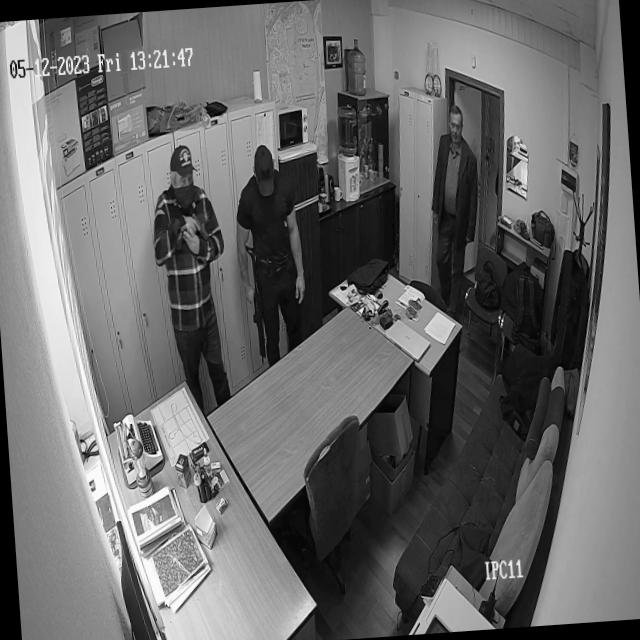gun: (242, 240, 268, 364), (183, 210, 209, 250)
person: (422, 100, 484, 262)
person with a gun: (145, 138, 234, 384), (229, 142, 308, 336)
